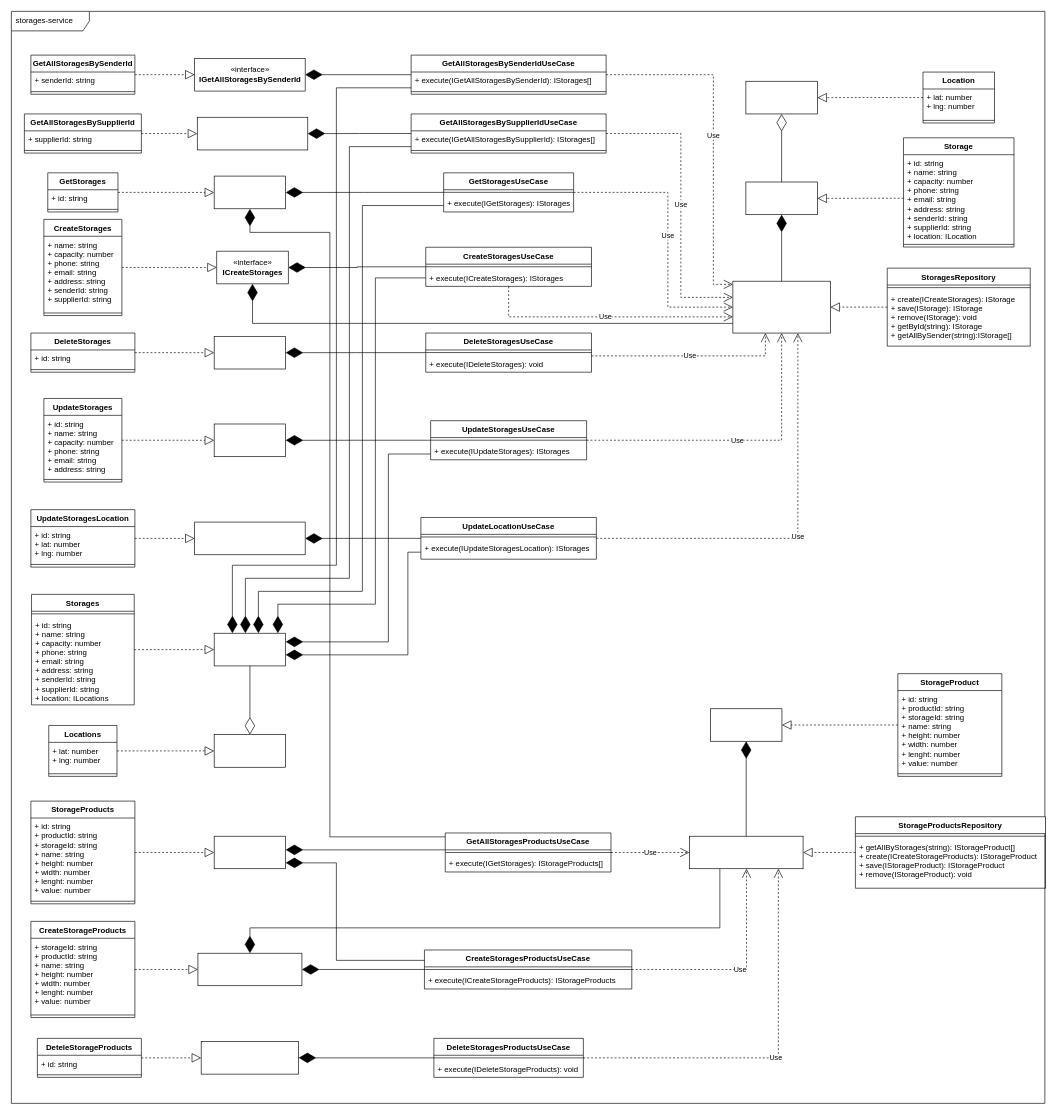
Image size: 1057x1115. Some labels were removed from this diagram. The centre of each missing label's shape, as x and y in pixels:
"«interface» I StorageProduct" goes at [746,724].
"«interface» ICreateStorageProducts" goes at [249,969].
"«interface» IDeleteStorageProducts" goes at [250,1057].
"«interface» IDeleteStorages" goes at [250,352].
"«interface» IGetAllStoragesBySupplierId" goes at [252,133].
"«interface» IGetStorages" goes at [250,192].
"«interface» ILocation" goes at [781,97].
"«interface» ILocations" goes at [250,750].
"«interface» IStorage" goes at [781,198].
"«interface» IStorageProducts" goes at [250,852].
"«interface» IStorageProductsRepository" goes at [746,852].
"«interface» IStorages" goes at [250,649].
"«interface» IStoragesRepository" goes at [781,307].
"«interface» IUpdateStorages" goes at [250,440].
"«interface» IUpdateStoragesLocation" goes at [249,538].
